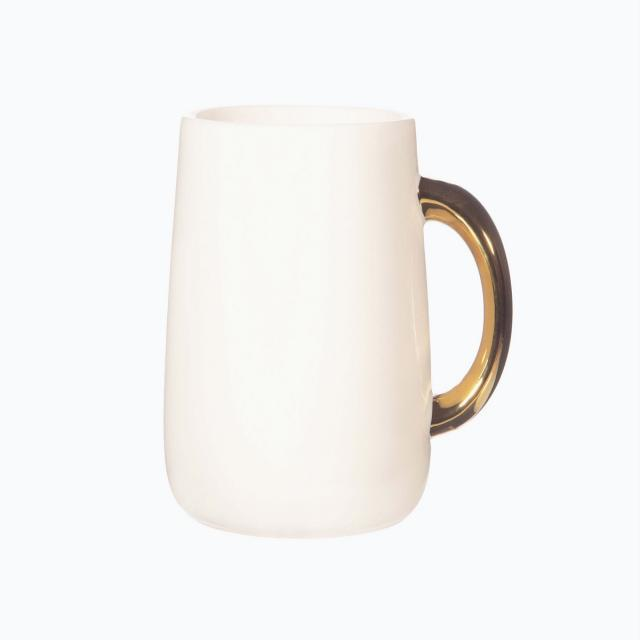cup: (155, 70, 519, 560)
